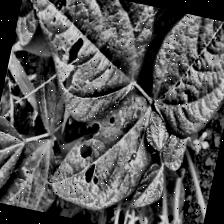ALS: (2, 0, 160, 125), (47, 92, 158, 216), (146, 9, 224, 128)
